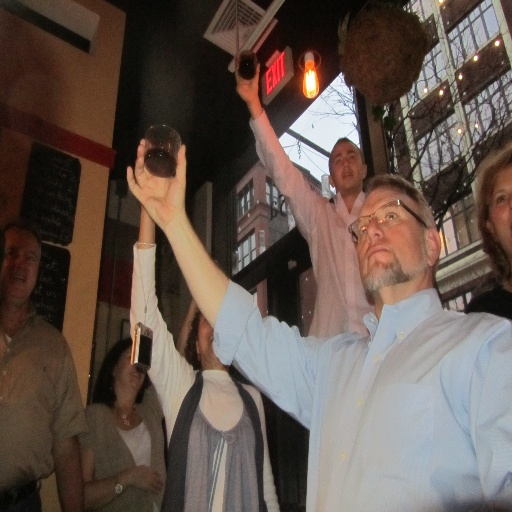hand: (119, 136, 192, 235), (233, 51, 262, 103), (128, 461, 164, 496)
